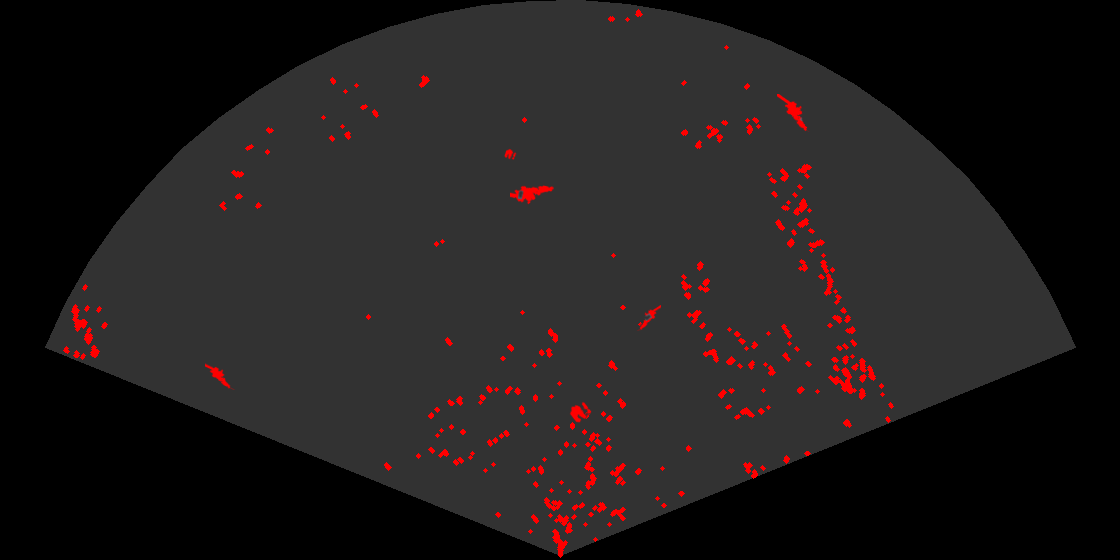ball: (568, 400, 593, 424), (503, 147, 518, 161)
frogman: (777, 94, 811, 132), (510, 184, 554, 206), (205, 363, 236, 390), (636, 305, 661, 331)
